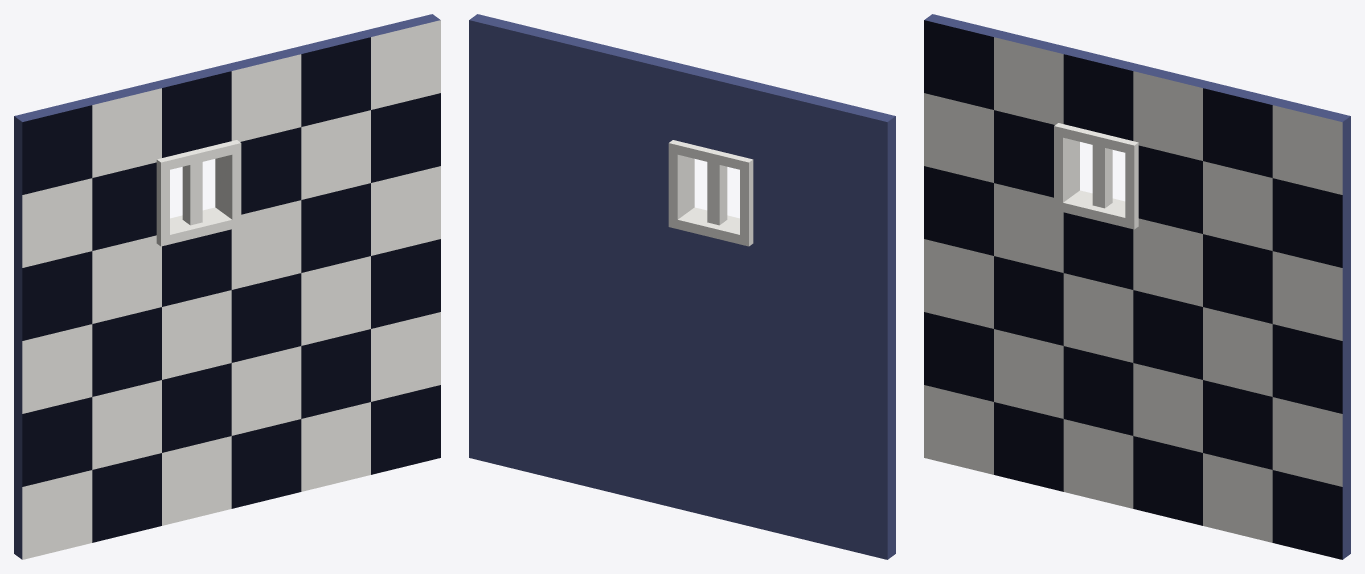
The model's file is BathroomWallWindow.fbx.
The picture shows the model from 3 angles, left to right: view 1: azimuth 30°, elevation 25°; view 2: azimuth 150°, elevation 25°; view 3: azimuth 330°, elevation 25°; orthographic projection.
Parts seen in each view (by area): view 1: Cube; view 2: Cube; view 3: Cube.
Boxes of the visible parts, x1,y1,x2,y2 form: Cube: [14, 14, 440, 559]; Cube: [469, 14, 895, 559]; Cube: [924, 14, 1350, 559].
Bounding box in the file's own units: 2900 × 203 × 2900.
1 material, 1 textured.
